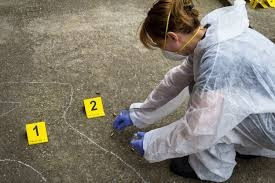escopeta.png: (122, 108, 156, 116)
